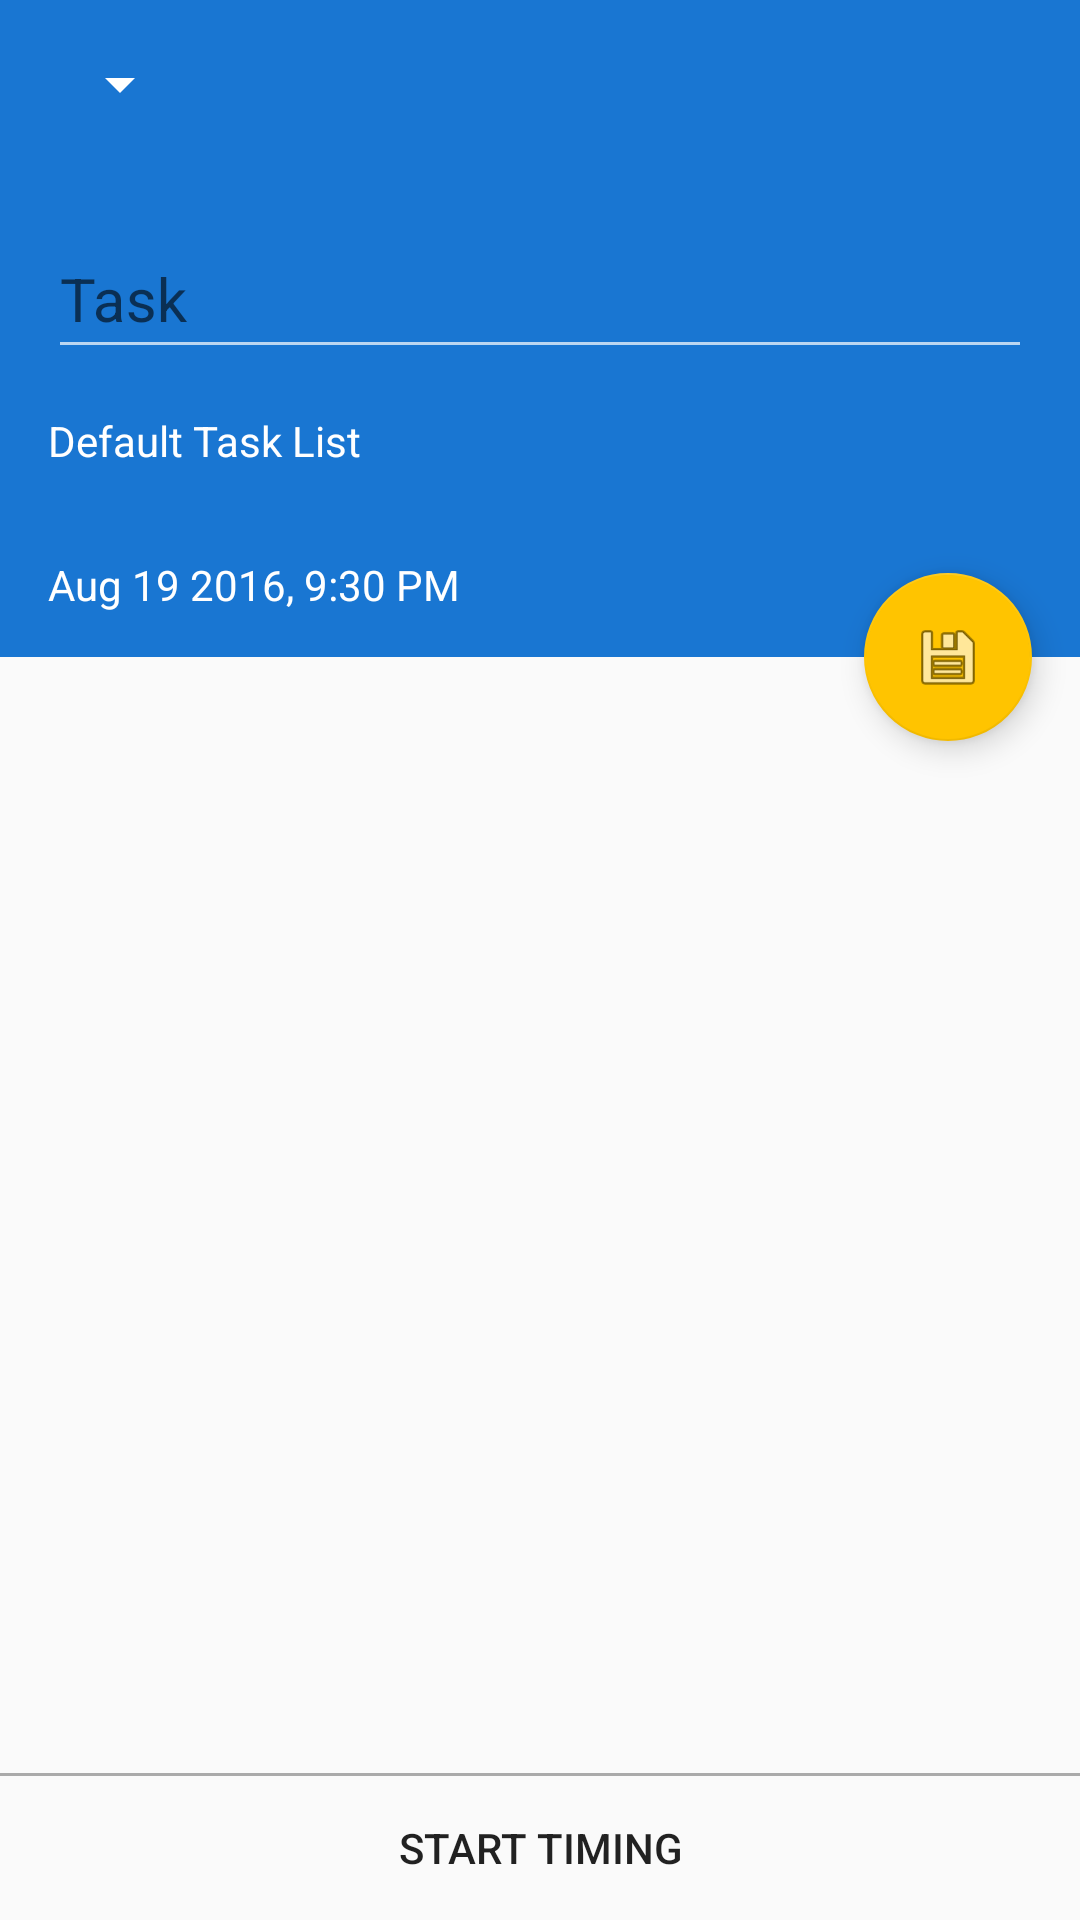

Icons on this 1080*1920 Android screen, each with the point to tap as (x,y):
save: (948,657)
